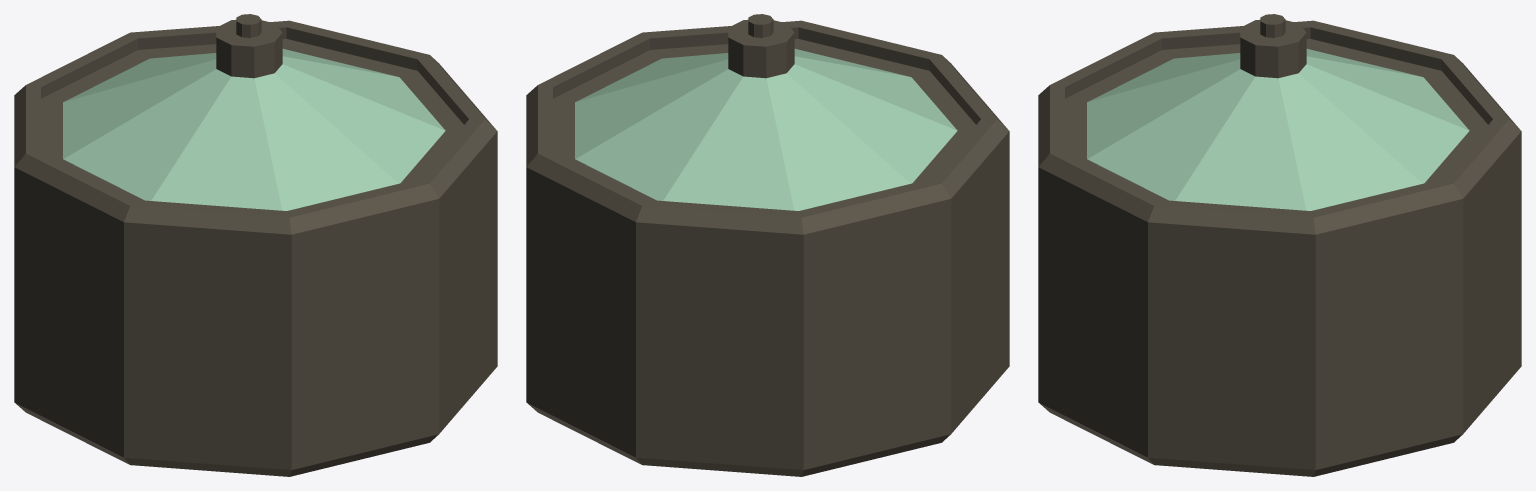
The model's file is rotator.glb.
3 views of the same model, side by side, from view 1: azimuth 30°, elevation 25°; view 2: azimuth 150°, elevation 25°; view 3: azimuth 270°, elevation 25° (orthographic).
Parts seen in each view (by area): view 1: Cylinder; view 2: Cylinder; view 3: Cylinder.
Part boxes in pixels (left/top/right/bottom): Cylinder: left=14, top=14, right=497, bottom=476; Cylinder: left=526, top=14, right=1009, bottom=476; Cylinder: left=1038, top=14, right=1521, bottom=476.
Size of the model in its own units: 1.97 by 1.59 by 1.94.
